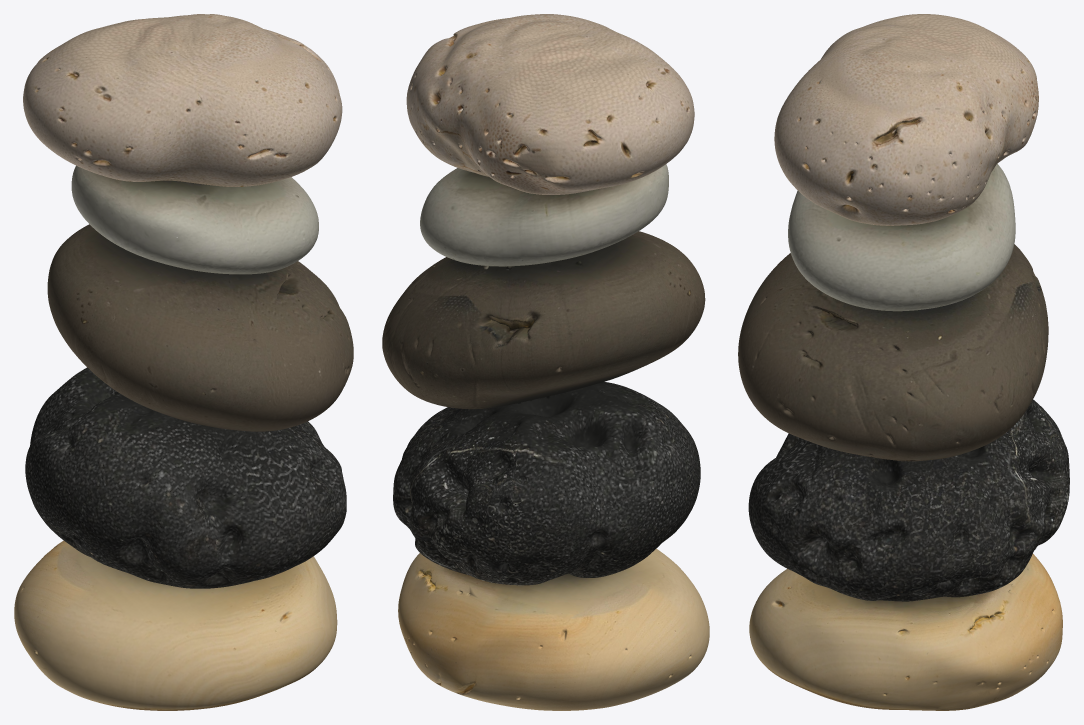
File: dieshi4-v1.glb
3 views of the same model, side by side, from view 1: azimuth 30°, elevation 25°; view 2: azimuth 150°, elevation 25°; view 3: azimuth 270°, elevation 25° (orthographic).
Visible parts, largest first — view 1: tripo_node_49e7a5ca-7929-401d-9882-613518b5ee24; view 2: tripo_node_49e7a5ca-7929-401d-9882-613518b5ee24; view 3: tripo_node_49e7a5ca-7929-401d-9882-613518b5ee24.
Boxes of the visible parts, x1=… form: tripo_node_49e7a5ca-7929-401d-9882-613518b5ee24: x1=14, y1=14, x2=353, y2=710; tripo_node_49e7a5ca-7929-401d-9882-613518b5ee24: x1=382, y1=14, x2=709, y2=710; tripo_node_49e7a5ca-7929-401d-9882-613518b5ee24: x1=738, y1=14, x2=1069, y2=710.
Size of the model in its own units: 0.4734 by 0.9802 by 0.475.
Materials: 1 (1 with a texture image).
